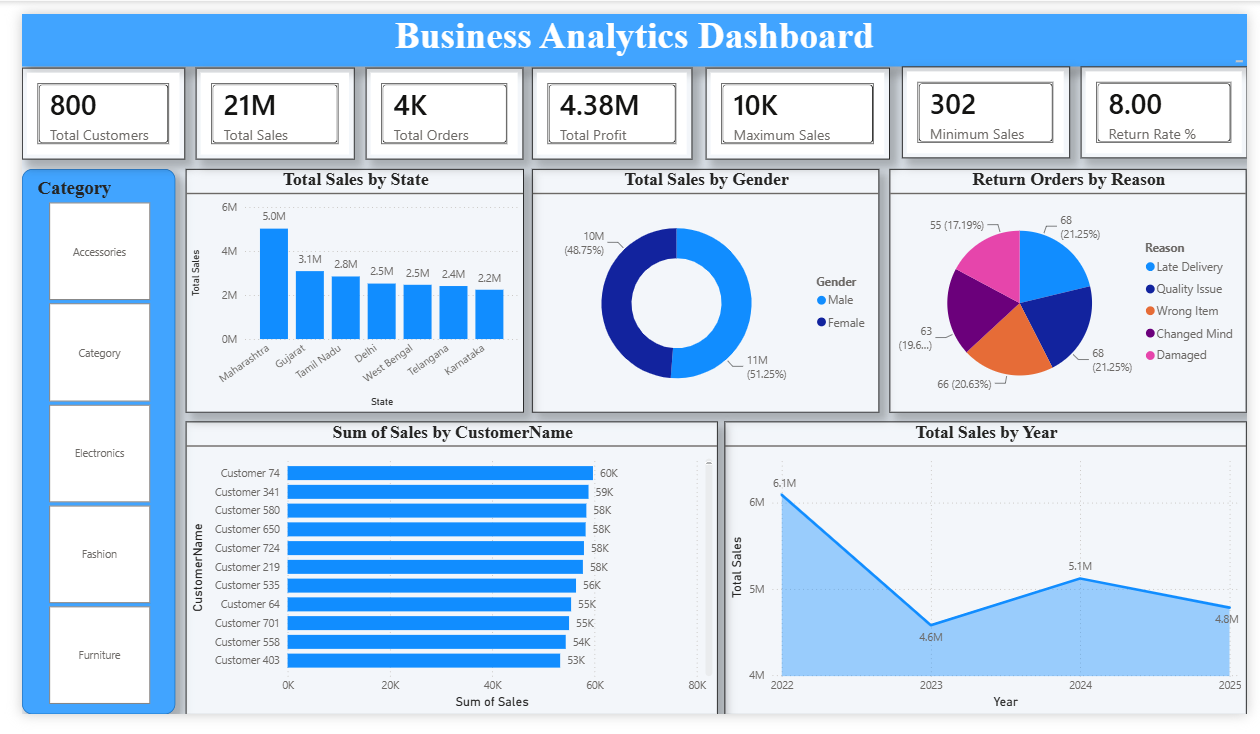

The dashboard page shown, as its layout file describes it:
{"tool":"powerbi","page":{"name":"Dashboard","canvas":[1400,800],"ordinal":1},"visuals":[{"type":"donutChart","fields":{"Category":["Customers.Gender"],"Y":["Orders.Total Sales"]},"box":[582.9,177.1,397.1,278.6],"z":0},{"type":"pieChart","fields":{"Category":["Returns.Reason"],"Y":["Returns.Return Orders"]},"box":[991.7,176.7,408.3,278.3],"z":1000},{"type":"areaChart","fields":{"Category":["Customers.JoinDate.Variation.Date Hierarchy.Year","Customers.JoinDate.Variation.Date Hierarchy.Quarter","Customers.JoinDate.Variation.Date Hierarchy.Month","Customers.JoinDate.Variation.Date Hierarchy.Day"],"Y":["Orders.Total Sales"]},"box":[803.3,465,596.7,335],"z":2000},{"type":"slicer","fields":{"Values":["Products.Category"]},"box":[0,176.7,175,623.3],"z":3000},{"type":"barChart","fields":{"Category":["Customers.CustomerName"],"Y":["Sum(Orders.Sales)"]},"box":[186.7,465,608.3,335],"z":4000},{"type":"clusteredColumnChart","fields":{"Category":["Customers.State"],"Y":["Orders.Total Sales"]},"box":[186.7,176.7,386.7,278.3],"z":5000},{"type":"textbox","title":"Business Analytics Dashboard ","box":[0,0,1400,60],"z":6000},{"type":"cardVisual","fields":{"Data":["Customers.Total Customers"]},"box":[0,61.7,186.7,105],"z":7000},{"type":"cardVisual","fields":{"Data":["Orders.Total Sales"]},"box":[198.3,61.7,181.7,105],"z":8000},{"type":"cardVisual","fields":{"Data":["Orders.Total Orders"]},"box":[393.3,61.7,180,105],"z":9000},{"type":"cardVisual","fields":{"Data":["Orders.total Profit"]},"box":[583.3,61.7,183.3,105],"z":10000},{"type":"cardVisual","fields":{"Data":["Orders.Maximum Sales"]},"box":[781.7,61.7,210,105],"z":11000},{"type":"cardVisual","fields":{"Data":["Orders.Minimum Sales"]},"box":[1005,60,191.7,105],"z":12000},{"type":"cardVisual","fields":{"Data":["Returns.Return Rate %"]},"box":[1210,60,190,105],"z":13000}]}

Visuals, with their boxes in screenshot pixels (x1, y1, x2, y2), scaled from the page's 1400x800 canvas onto the 1260x734 screenshot:
donutChart - Customers.Gender x Orders.Total Sales: (525,162,882,418)
pieChart - Returns.Reason x Returns.Return Orders: (893,162,1259,417)
areaChart - Customers.JoinDate.Variation.Date Hierarchy.Year x Customers.JoinDate.Variation.Date Hierarchy.Quarter: (723,427,1259,733)
slicer - Products.Category: (0,162,158,733)
barChart - Customers.CustomerName x Sum(Orders.Sales): (168,427,716,733)
clusteredColumnChart - Customers.State x Orders.Total Sales: (168,162,516,417)
"Business Analytics Dashboard " textbox: (0,0,1259,55)
cardVisual - Customers.Total Customers: (0,57,168,153)
cardVisual - Orders.Total Sales: (178,57,342,153)
cardVisual - Orders.Total Orders: (354,57,516,153)
cardVisual - Orders.total Profit: (525,57,690,153)
cardVisual - Orders.Maximum Sales: (704,57,893,153)
cardVisual - Orders.Minimum Sales: (904,55,1077,151)
cardVisual - Returns.Return Rate %: (1089,55,1259,151)
